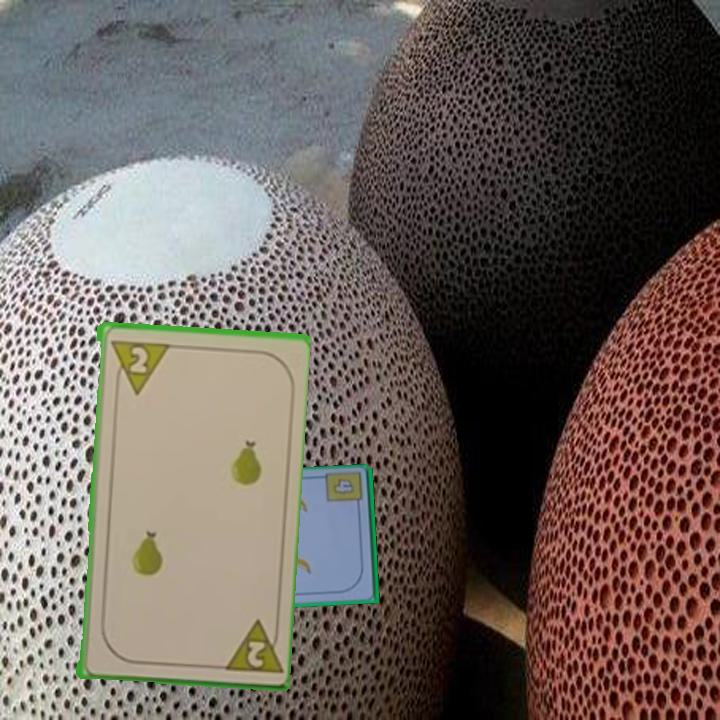2p: (106, 335, 169, 397), (243, 637, 267, 671)
4b: (329, 475, 357, 497)
